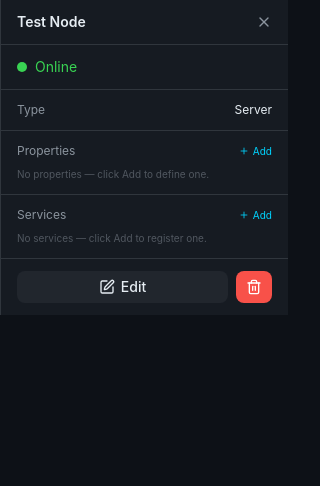
Test: DetailPanel › Properties section › shows add form when Add is clicked
There are multiple "Add" buttons (services + properties) — find the one after "Properties"
Click the 1st button "Add".
click(255, 151)  # box [239,144,272,158]
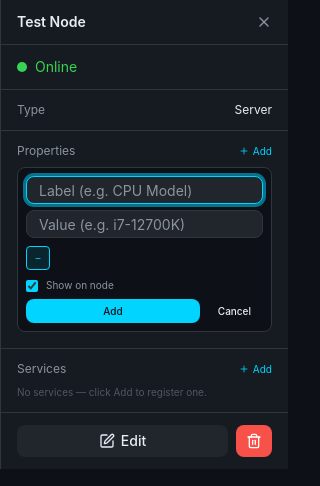
Check: the field with placeholder "Label (e.g. CPU Model)" is shown, box [26,176,263,204]
